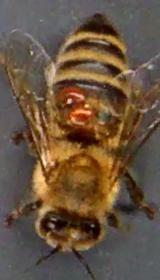varroa_mite: (48, 76, 94, 112), (63, 94, 99, 128)
